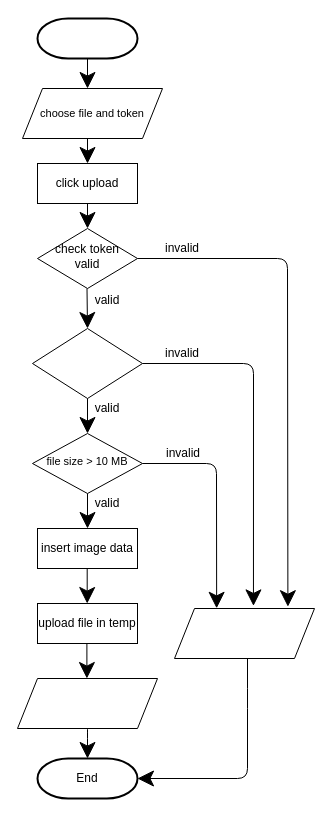
This 332x816 diagram has some shape labels left out. The shapes that lost their labels are listed below. From the top down, each one's centre as x and y in pixels, then its label:
the point at 87,38: start
the point at 87,363: content type is .png,.jpg,jpeg
the point at 244,633: response status code 403
the point at 87,703: response status code 200
